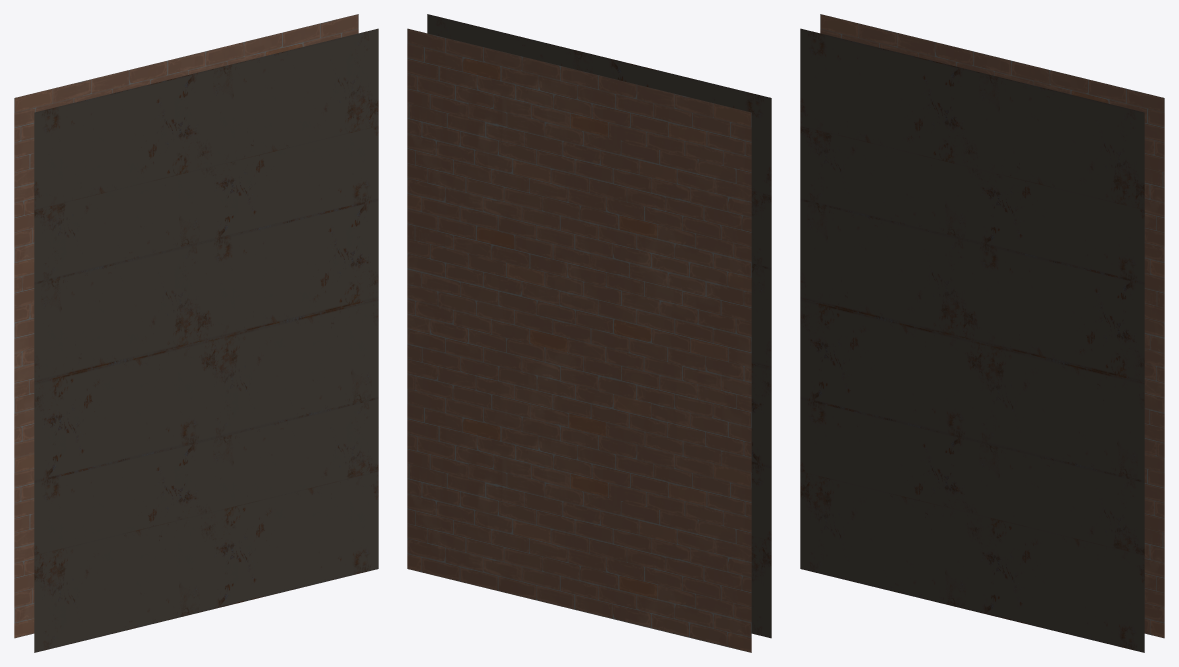
File: metal_plain_3.glb
3 views of the same model, side by side, from view 1: azimuth 30°, elevation 25°; view 2: azimuth 150°, elevation 25°; view 3: azimuth 330°, elevation 25° (orthographic).
Visible parts, largest first — view 1: Metal_Plain_3; view 2: Metal_Plain_3; view 3: Metal_Plain_3.
Boxes of the visible parts, left/top/right/bottom form: Metal_Plain_3: left=14, top=14, right=378, bottom=652; Metal_Plain_3: left=407, top=14, right=771, bottom=652; Metal_Plain_3: left=800, top=14, right=1164, bottom=652.
Size of the model in its own units: 2 by 3 by 0.2.
Materials: 2 (2 with a texture image).
